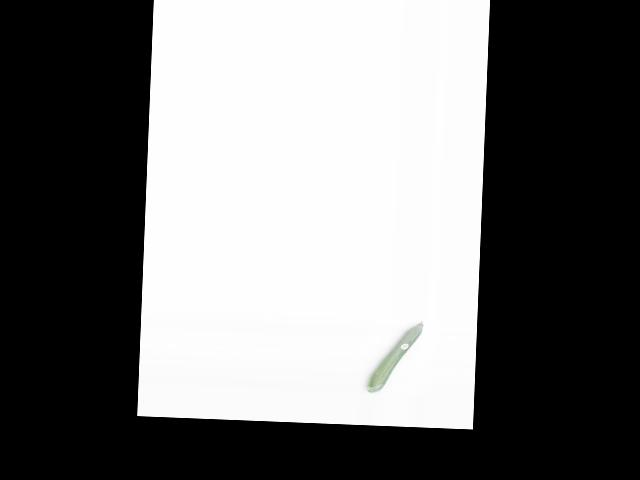cucumber: (366, 318, 423, 394)
